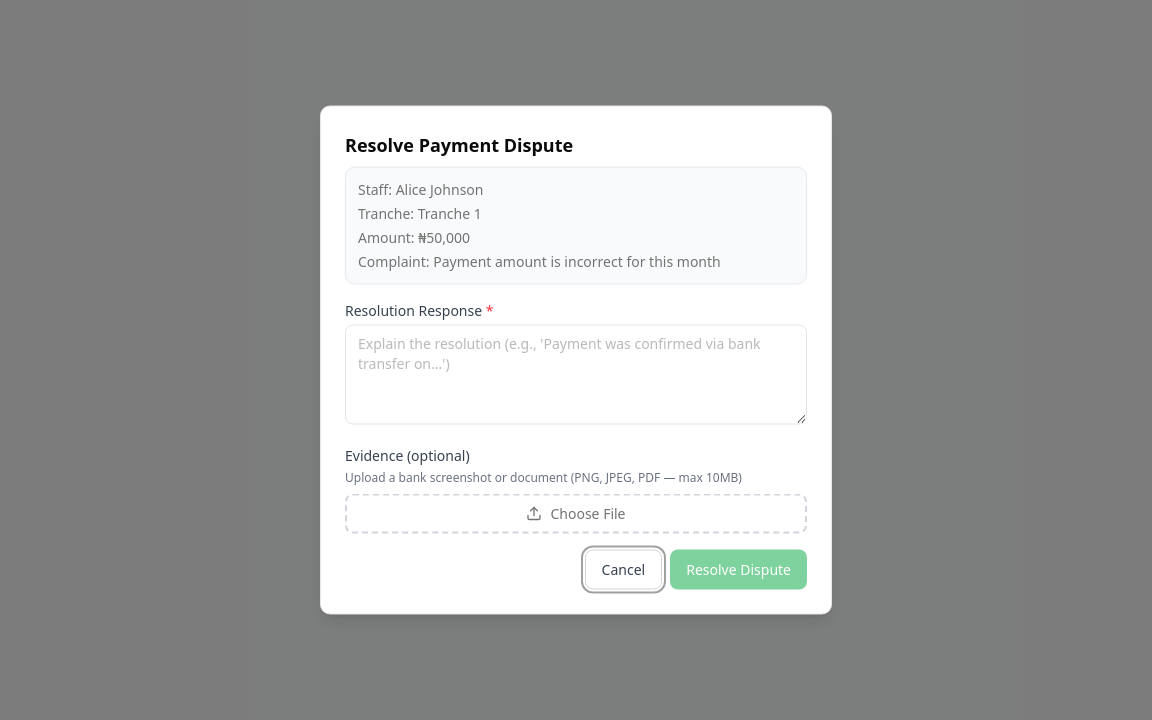
ResolutionDialog › Validation › resolve button is enabled when response is provided
The width and height of the screenshot is (1152, 720).
Replace the text in the text box with test id "resolution-response-input" with "Payment confirmed via bank records" at point(576, 374), box [345,324,807,424]
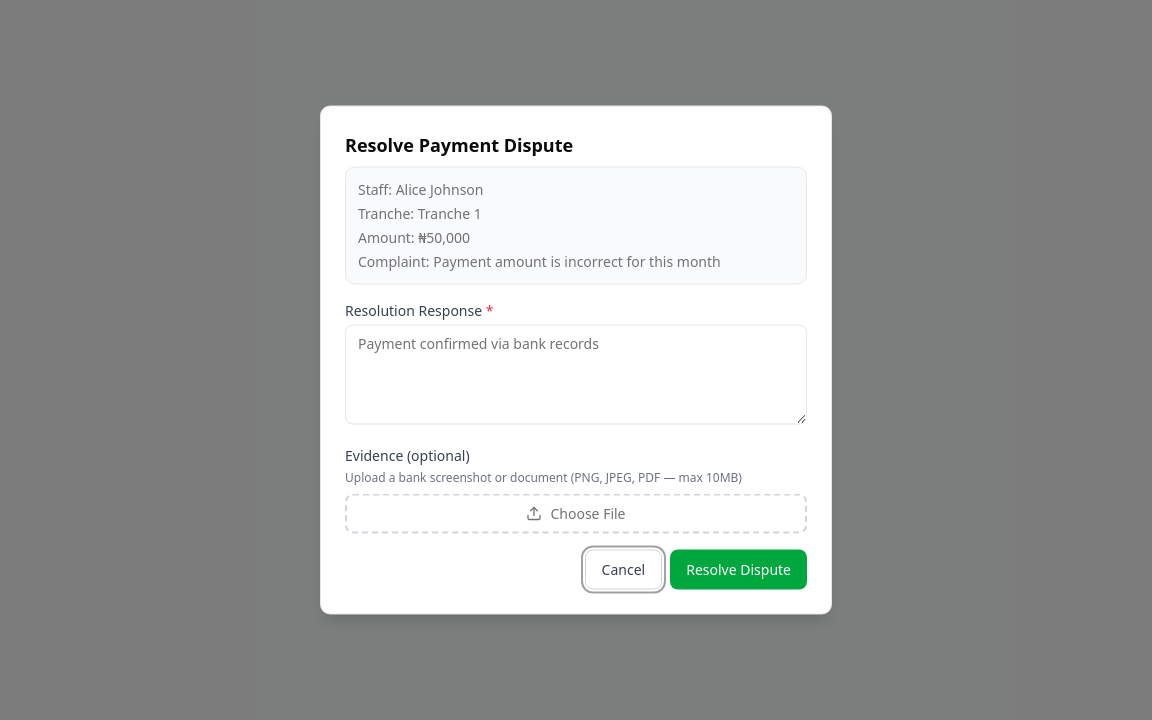
expect the button with test id "resolve-dispute-button" is enabled: met, box [670,550,807,590]
